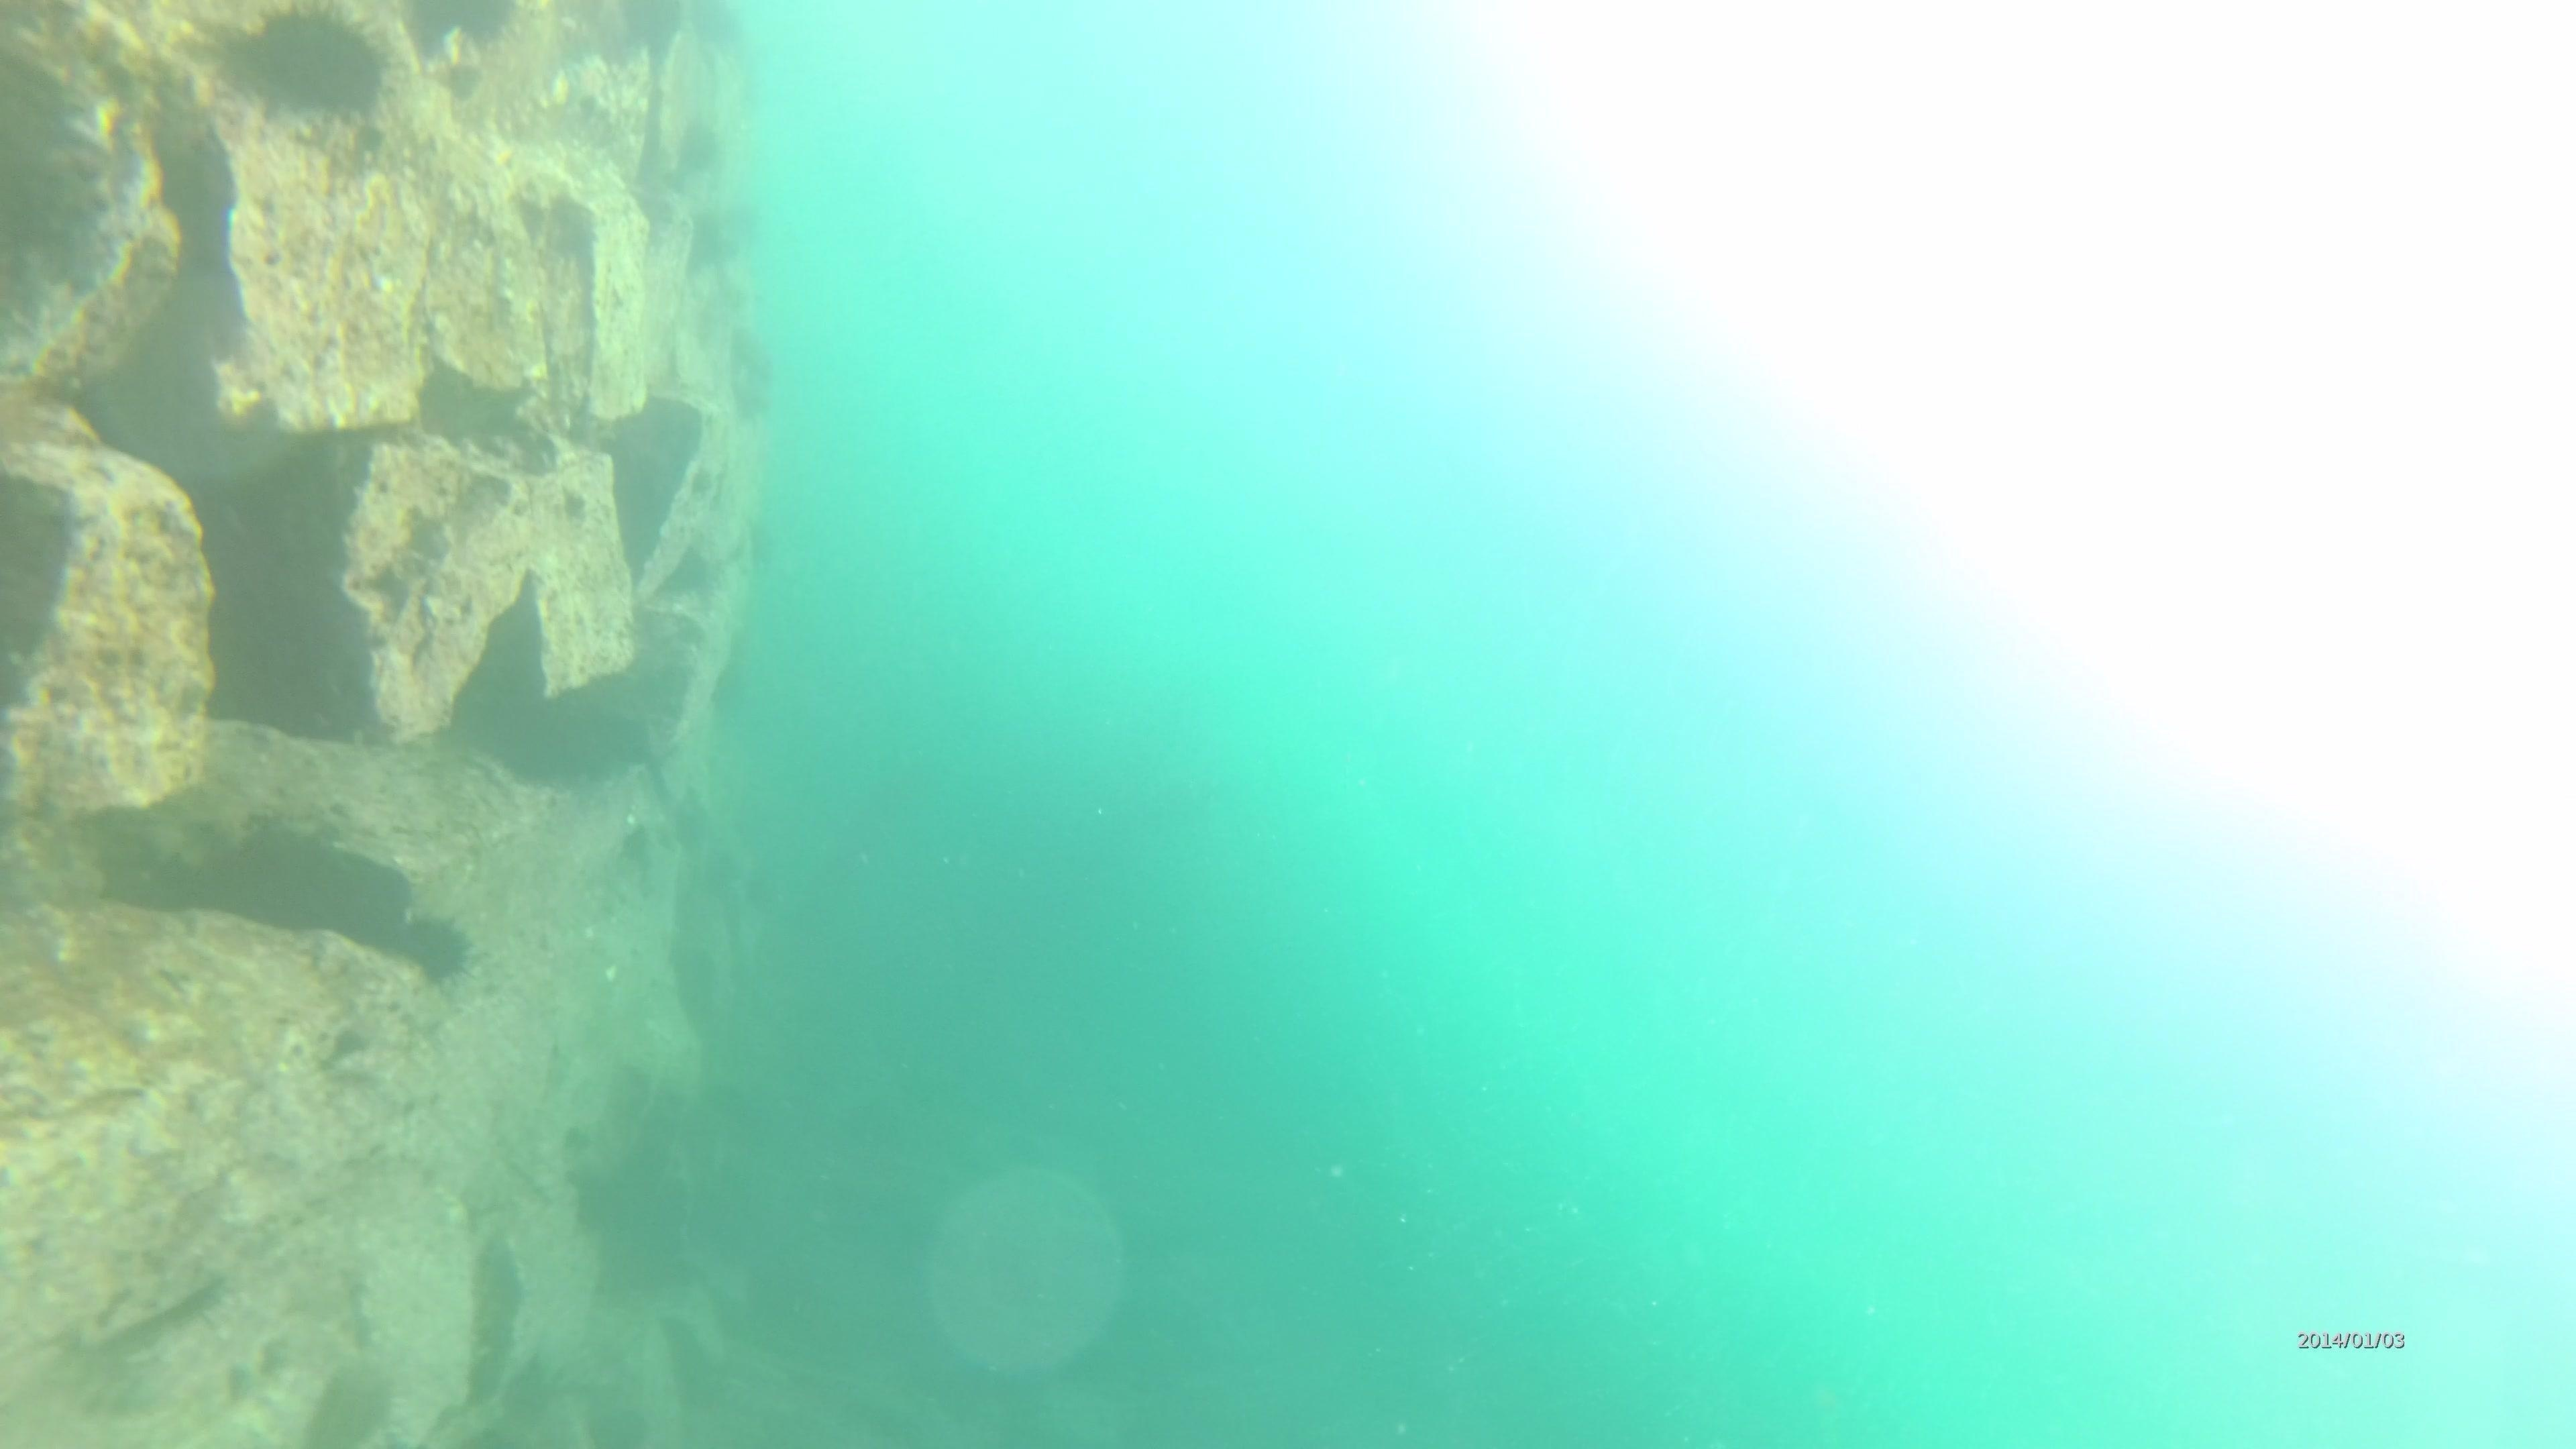echinus: (221, 4, 400, 129), (299, 1357, 403, 1449), (398, 0, 527, 73), (391, 906, 479, 991), (678, 191, 761, 278), (718, 326, 784, 428), (662, 111, 731, 186)
